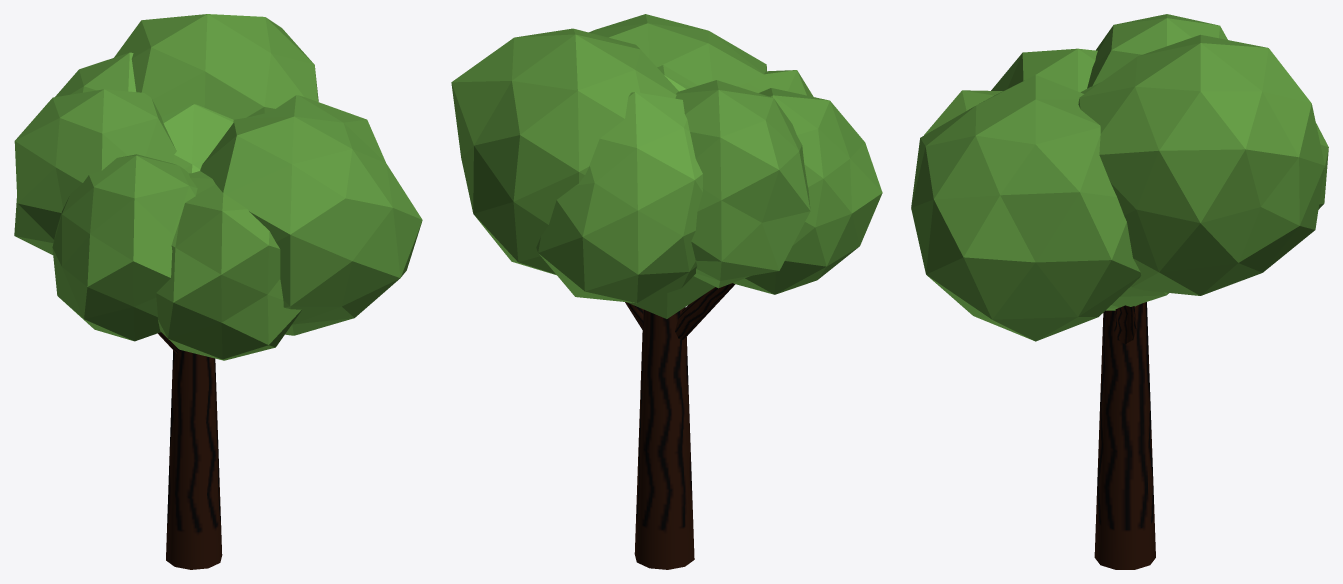
Rendered from mese.glb.
3 renders of one model, left to right at view 1: azimuth 30°, elevation 25°; view 2: azimuth 150°, elevation 25°; view 3: azimuth 270°, elevation 25°, orthographic. The views are drawn at different scales.
Visible parts, largest first — view 1: mese; view 2: mese; view 3: mese.
Part boxes in pixels (x1,y1,x2,y2): mese: [14, 14, 422, 569]; mese: [451, 14, 882, 569]; mese: [911, 14, 1328, 569].
Bounding box in the file's own units: 3.59 × 5.43 × 3.81.
7 materials, 1 textured.
